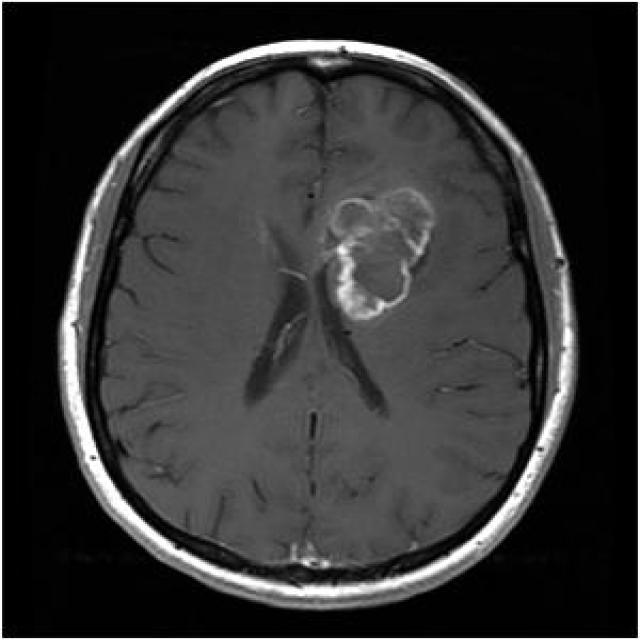Tumor-Cell: (317, 183, 446, 334)
